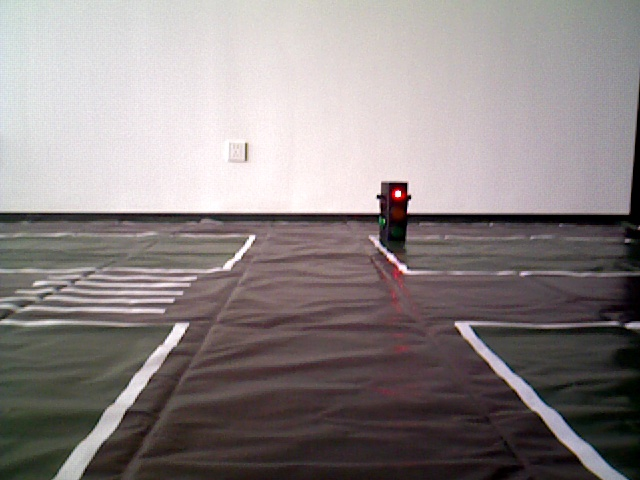red: (379, 183, 407, 244)
